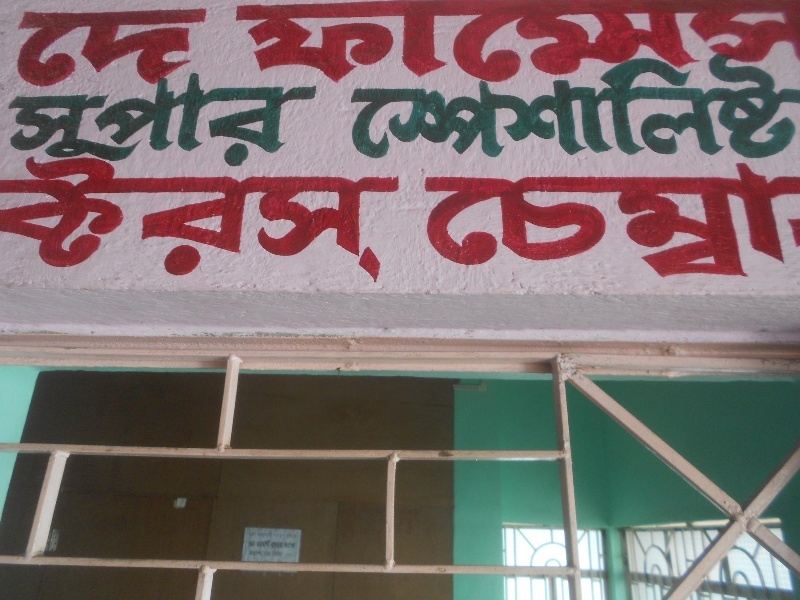text: (17, 157, 32, 281), (33, 157, 48, 281), (49, 157, 64, 281), (65, 157, 80, 281), (81, 157, 96, 281), (97, 157, 112, 281), (113, 157, 128, 281), (129, 157, 144, 281), (145, 157, 160, 281), (161, 157, 176, 281), (177, 157, 192, 281), (193, 157, 208, 281), (209, 157, 224, 281), (225, 157, 240, 281), (241, 157, 256, 281), (257, 157, 272, 281), (273, 157, 288, 281), (289, 157, 304, 281), (305, 157, 320, 281), (321, 157, 336, 281), (337, 157, 352, 281), (353, 157, 368, 281), (369, 157, 384, 281), (385, 157, 400, 281), (433, 160, 448, 279), (449, 160, 464, 279), (465, 160, 480, 279), (481, 160, 496, 279), (497, 160, 512, 279), (513, 160, 528, 279), (529, 160, 544, 279), (545, 160, 560, 279), (561, 160, 576, 279), (577, 160, 592, 279), (593, 160, 608, 279), (609, 160, 624, 279), (625, 160, 640, 279), (641, 160, 656, 279), (657, 160, 672, 279), (673, 160, 688, 279), (689, 160, 704, 279), (705, 160, 720, 279), (721, 160, 736, 279), (737, 160, 752, 279), (753, 160, 768, 279), (769, 160, 784, 279), (785, 160, 799, 279), (3, 157, 16, 281), (353, 58, 368, 163), (369, 58, 384, 163), (385, 58, 400, 163), (401, 58, 416, 163), (417, 58, 432, 163), (433, 58, 448, 163), (449, 58, 464, 163), (465, 58, 480, 163), (481, 58, 496, 163), (497, 58, 512, 163), (513, 58, 528, 163), (529, 58, 544, 163), (545, 58, 560, 163), (561, 58, 576, 163), (577, 58, 592, 163), (593, 58, 608, 163), (609, 58, 624, 163), (625, 58, 640, 163), (641, 58, 656, 163), (657, 58, 672, 163), (673, 58, 688, 163), (689, 58, 704, 163), (705, 58, 720, 163), (721, 58, 736, 163), (737, 58, 752, 163), (753, 58, 768, 163), (769, 58, 784, 163), (785, 58, 799, 163), (17, 81, 32, 168), (33, 81, 48, 168), (49, 81, 64, 168), (65, 81, 80, 168), (81, 81, 96, 168), (97, 81, 112, 168), (113, 81, 128, 168), (129, 81, 144, 168), (145, 81, 160, 168), (161, 81, 176, 168), (177, 81, 192, 168), (193, 81, 208, 168), (209, 81, 224, 168), (225, 81, 240, 168), (241, 81, 256, 168), (257, 81, 272, 168), (273, 81, 288, 168), (289, 81, 304, 168), (305, 81, 320, 168), (17, 6, 32, 89), (33, 6, 48, 89), (49, 6, 64, 89), (65, 6, 80, 89), (81, 6, 96, 89), (97, 6, 112, 89), (113, 6, 128, 89), (129, 6, 144, 89), (145, 6, 160, 89), (161, 6, 176, 89), (177, 6, 192, 89), (193, 6, 208, 89), (241, 3, 256, 84), (257, 3, 272, 84), (273, 3, 288, 84), (289, 3, 304, 84), (305, 3, 320, 84), (321, 3, 336, 84), (337, 3, 352, 84), (353, 3, 368, 84), (369, 3, 384, 84), (385, 3, 400, 84), (401, 3, 416, 84), (417, 3, 432, 84), (433, 3, 448, 84), (449, 3, 464, 84), (465, 3, 480, 84), (481, 3, 496, 84), (497, 3, 512, 84), (513, 3, 528, 84), (529, 3, 544, 84), (545, 3, 560, 84), (561, 3, 576, 84), (577, 3, 592, 84), (593, 3, 608, 84), (609, 3, 624, 84), (625, 3, 640, 84), (641, 3, 656, 84), (657, 3, 672, 84), (673, 3, 688, 84), (689, 3, 704, 84), (705, 3, 720, 84), (721, 3, 736, 84), (737, 3, 752, 84), (753, 3, 768, 84), (769, 3, 784, 84), (785, 3, 800, 84), (424, 160, 432, 279), (401, 157, 406, 281), (9, 81, 16, 168), (9, 6, 16, 89), (257, 527, 272, 565), (273, 527, 288, 565), (245, 527, 256, 565), (289, 527, 299, 565), (237, 3, 240, 84), (209, 6, 211, 89), (351, 58, 352, 163)
